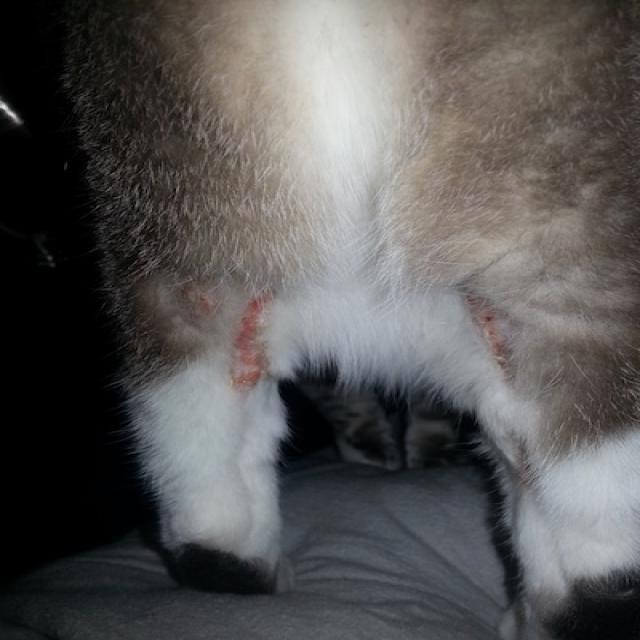hac lao: (444, 278, 547, 391), (209, 279, 288, 412)
